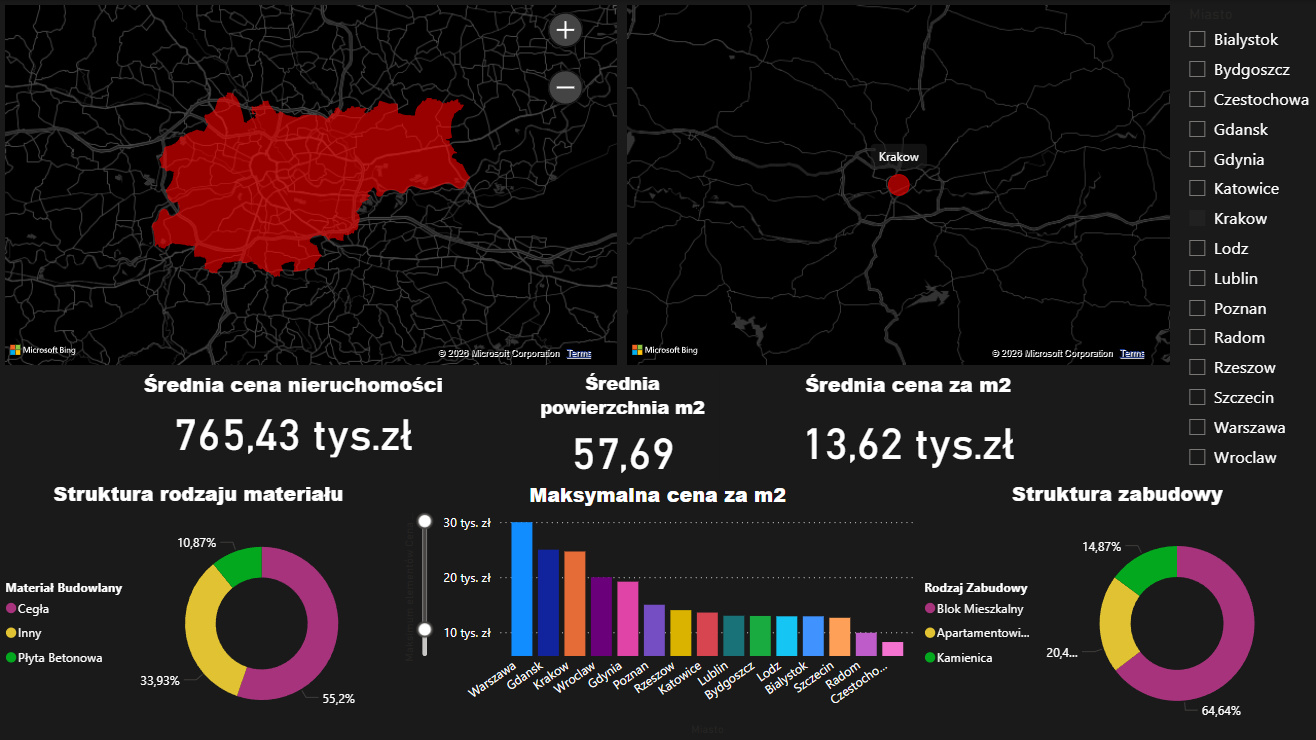

What the dashboard file says about the page in this screenshot:
{"tool":"powerbi","page":{"name":"Ogólne dane","canvas":[1280,720],"ordinal":1},"visuals":[{"type":"map","fields":{"Category":["apartments_pl_2023_08.Miasto"],"Size":["Avg(Dane Nieruchomości 15 Miast.Cena za m^2)"],"X":["Avg(Dane Nieruchomości 15 Miast.longitude)"],"Y":["Avg(Dane Nieruchomości 15 Miast.latitude)"]},"box":[605.3,0,538.5,359.8],"z":0},{"type":"card","title":"Średnia cena za m2","fields":{"Values":["Avg(Dane Nieruchomości 15 Miast.Cena za m^2)"]},"box":[622,359.8,521.8,106.7],"z":1000},{"type":"slicer","fields":{"Values":["Dane Nieruchomości 15 Miast.Miasto"]},"box":[1144,0,136,466],"z":2000},{"type":"filledMap","fields":{"Category":["Dane Nieruchomości 15 Miast.Miasto"],"X":["Avg(Dane Nieruchomości 15 Miast.longitude)"],"Y":["Avg(Dane Nieruchomości 15 Miast.latitude)"]},"box":[0,0,605.3,359.8],"z":3000},{"type":"card","title":"Średnia cena nieruchomości","fields":{"Values":["Avg(Dane Nieruchomości 15 Miast.Cena)"]},"box":[0,359.8,570.6,90],"z":4000},{"type":"donutChart","title":"Struktura zabudowy","fields":{"Category":["Dane Nieruchomości 15 Miast.Rodzaj Zabudowy"],"Y":["CountNonNull(Dane Nieruchomości 15 Miast.Miasto)"]},"box":[894,466,386,254],"z":5000},{"type":"donutChart","title":"Struktura rodzaju materiału","fields":{"Y":["CountNonNull(Dane Nieruchomości 15 Miast.Miasto)"],"Category":["Dane Nieruchomości 15 Miast.Materiał Budowlany"]},"box":[0,466,386,254],"z":6000},{"type":"columnChart","title":"Maksymalna cena za m2 ","fields":{"Y":["Max(Dane Nieruchomości 15 Miast.Cena za m^2)"],"Category":["Dane Nieruchomości 15 Miast.Miasto"],"Series":["Dane Nieruchomości 15 Miast.Miasto"]},"box":[385.5,466.5,508.9,253.2],"z":7000},{"type":"card","title":"Średnia powierzchnia m2","fields":{"Values":["Avg(Dane Nieruchomości 15 Miast.Powierzchnia (m^2))"]},"box":[511.5,359.8,187.6,106.7],"z":7001}]}

Visuals, with their boxes in screenshot pixels (x1, y1, x2, y2), scaled from the page's 1280x720 canvas onto the 1316x740 screenshot:
map - apartments_pl_2023_08.Miasto x Avg(Dane Nieruchomości 15 Miast.Cena za m^2): crop(622, 0, 1176, 370)
"Średnia cena za m2" card: crop(639, 370, 1176, 479)
slicer - Dane Nieruchomości 15 Miast.Miasto: crop(1176, 0, 1315, 479)
filledMap - Dane Nieruchomości 15 Miast.Miasto x Avg(Dane Nieruchomości 15 Miast.longitude): crop(0, 0, 622, 370)
"Średnia cena nieruchomości" card: crop(0, 370, 587, 462)
"Struktura zabudowy" donutChart: crop(919, 479, 1315, 739)
"Struktura rodzaju materiału" donutChart: crop(0, 479, 397, 739)
"Maksymalna cena za m2 " columnChart: crop(396, 479, 920, 739)
"Średnia powierzchnia m2" card: crop(526, 370, 719, 479)
